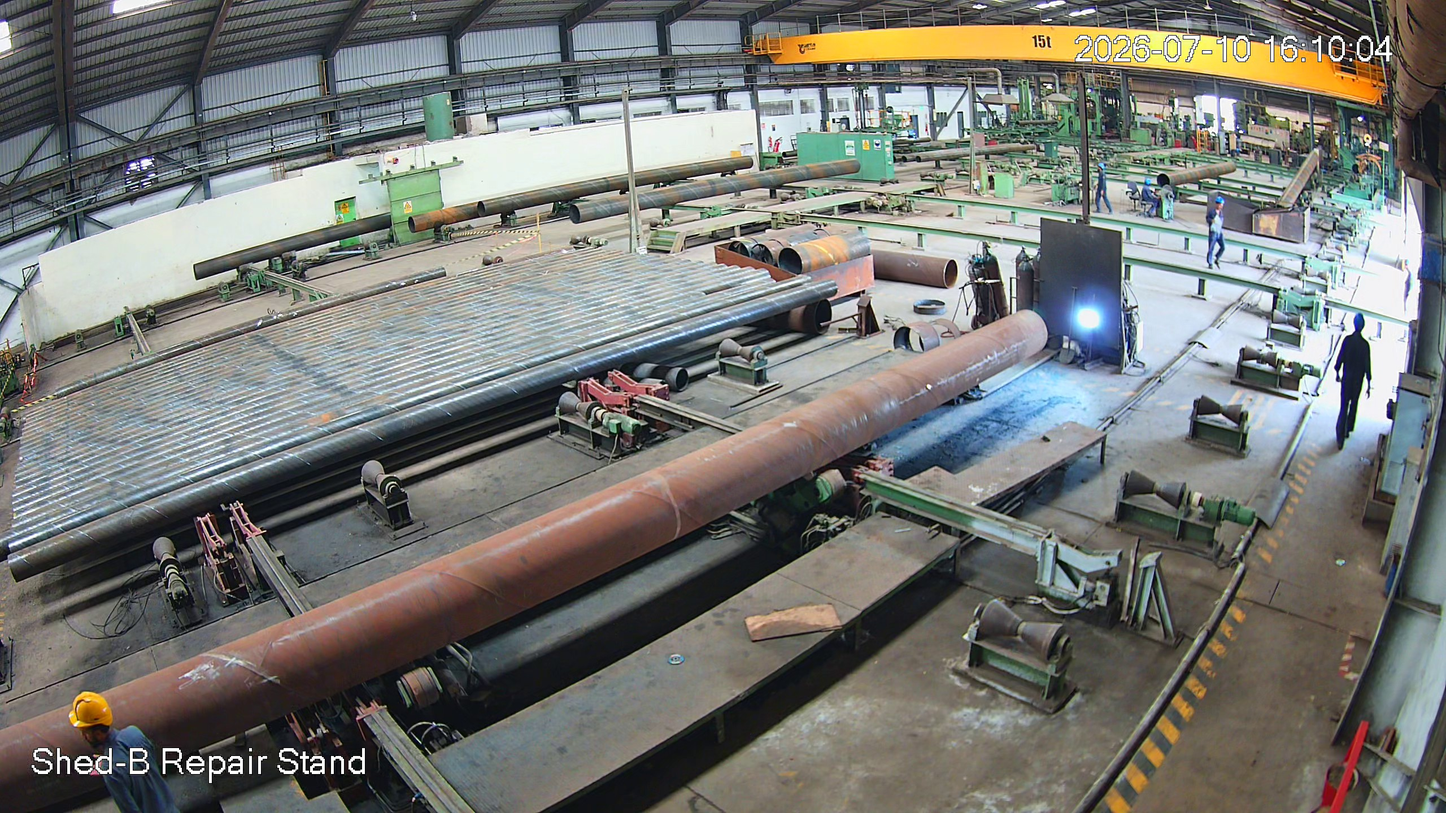Helmet: (63, 683, 127, 751), (1347, 310, 1375, 343), (1209, 190, 1229, 214), (1096, 161, 1107, 173), (1145, 177, 1154, 188)
Person: (65, 688, 170, 813), (1328, 312, 1379, 453), (1203, 194, 1234, 278), (1094, 161, 1114, 214), (1143, 179, 1161, 220)
